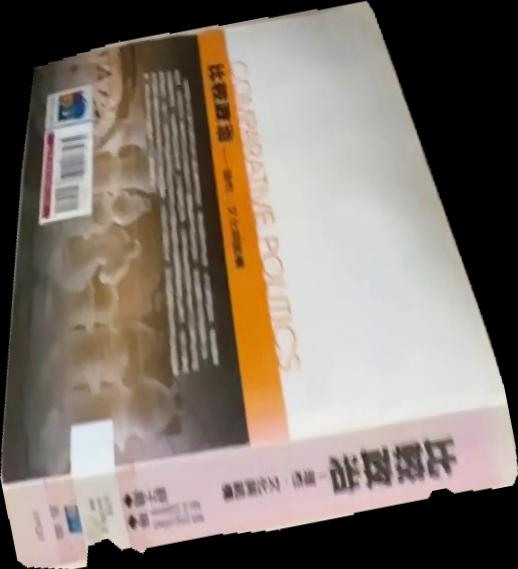flat: (1, 1, 518, 569)
